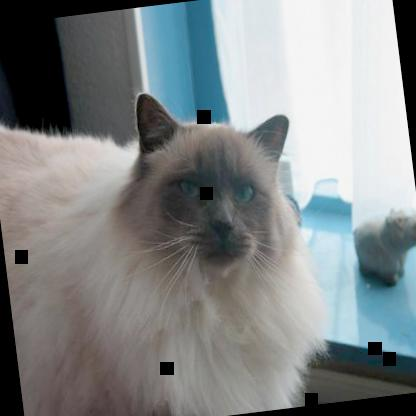cat: (0, 72, 338, 415)
